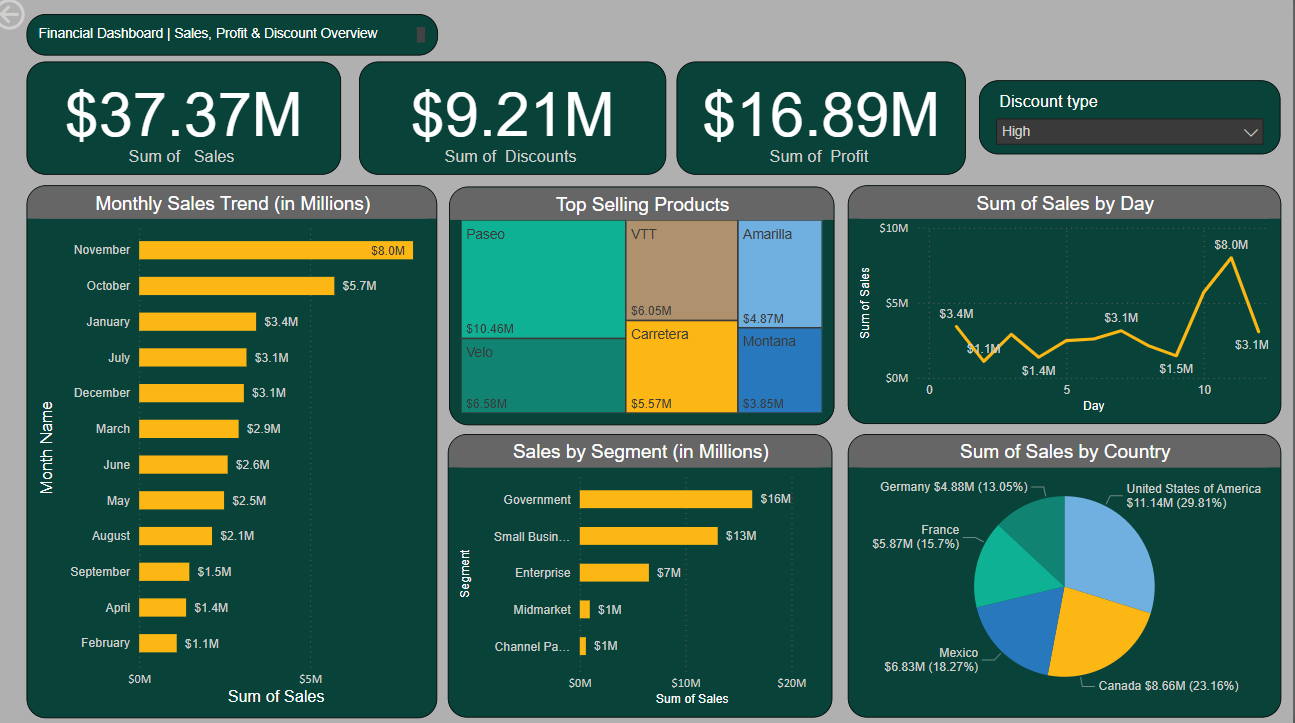

What the dashboard file says about the page in this screenshot:
{"tool":"powerbi","page":{"name":"Page 1","canvas":[1280,720],"ordinal":0},"visuals":[{"type":"clusteredBarChart","title":" Monthly Sales Trend (in Millions)","fields":{"Category":["Financials. Month Name "],"Y":["Sum(Financials.  Sales )"]},"box":[37,188,403.4,522.8],"z":0},{"type":"pieChart","fields":{"Y":["Sum(Financials.  Sales )"],"Category":["Financials.Country"]},"box":[842.5,432.2,425.4,278.6],"z":1000},{"type":"card","fields":{"Values":["Sum(Financials.  Sales )"]},"box":[37,65.9,308.7,111.1],"z":2000},{"type":"lineChart","fields":{"Category":["Financials.Date.Variation.Date Hierarchy.Day"],"Y":["Sum(Financials.  Sales )"]},"box":[842.5,188,425.4,234.6],"z":3000},{"type":"clusteredBarChart","title":"Sales by Segment (in Millions)","fields":{"Y":["Sum(Financials.  Sales )"],"Category":["Financials.Segment"]},"box":[450.1,432.2,377.4,278.6],"z":4000},{"type":"treemap","title":" Top Selling Products","fields":{"Details":["Financials. Product "],"Values":["Sum(Financials.  Sales )"]},"box":[451,189.2,378.3,234.4],"z":5000},{"type":"card","fields":{"Values":["Sum(Discounts (2). Discounts )"]},"box":[363.6,65.9,301.9,111.1],"z":6000},{"type":"card","fields":{"Values":["Sum(Discounts. Profit )"]},"box":[675.1,65.9,284,111.1],"z":7000},{"type":"slicer","fields":{"Values":["Financials. Discount Band "]},"box":[971.9,85,296.1,72.6],"z":8000},{"type":"actionButton","box":[0,0,100,40],"z":9000},{"type":"textbox","box":[36.8,19.6,403.7,40.5],"z":9001}]}

Visuals, with their boxes in screenshot pixels (x1, y1, x2, y2), scaled from the page's 1280x720 canvas onto the 1295x723 screenshot:
" Monthly Sales Trend (in Millions)" clusteredBarChart: {"x1": 37, "y1": 189, "x2": 446, "y2": 714}
pieChart - Sum(Financials.  Sales ) x Financials.Country: {"x1": 852, "y1": 434, "x2": 1283, "y2": 714}
card - Sum(Financials.  Sales ): {"x1": 37, "y1": 66, "x2": 350, "y2": 178}
lineChart - Financials.Date.Variation.Date Hierarchy.Day x Sum(Financials.  Sales ): {"x1": 852, "y1": 189, "x2": 1283, "y2": 424}
"Sales by Segment (in Millions)" clusteredBarChart: {"x1": 455, "y1": 434, "x2": 837, "y2": 714}
" Top Selling Products" treemap: {"x1": 456, "y1": 190, "x2": 839, "y2": 425}
card - Sum(Discounts (2). Discounts ): {"x1": 368, "y1": 66, "x2": 673, "y2": 178}
card - Sum(Discounts. Profit ): {"x1": 683, "y1": 66, "x2": 970, "y2": 178}
slicer - Financials. Discount Band : {"x1": 983, "y1": 85, "x2": 1283, "y2": 158}
actionButton: {"x1": 0, "y1": 0, "x2": 101, "y2": 40}
textbox: {"x1": 37, "y1": 20, "x2": 446, "y2": 60}
